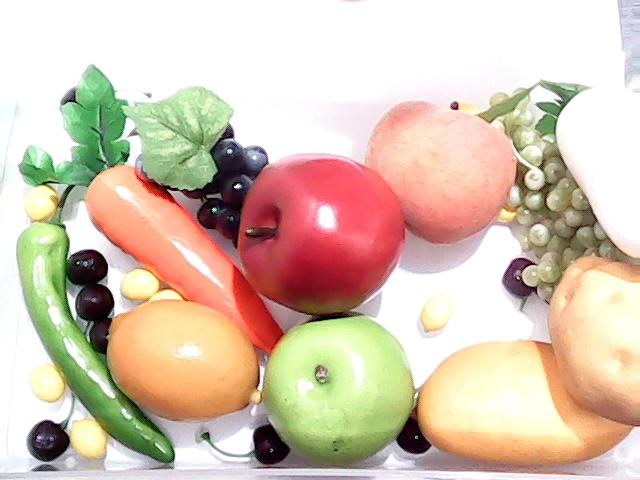apple: (230, 313, 438, 459), (236, 155, 408, 315)
carrot: (17, 63, 283, 356)
grape: (493, 98, 619, 274), (190, 118, 262, 226)
lemon: (88, 296, 276, 428)
mango: (416, 342, 640, 466)
peach: (364, 98, 520, 250)
pepper: (14, 175, 186, 465)
potato: (547, 256, 640, 428)
radish: (538, 76, 640, 259)
